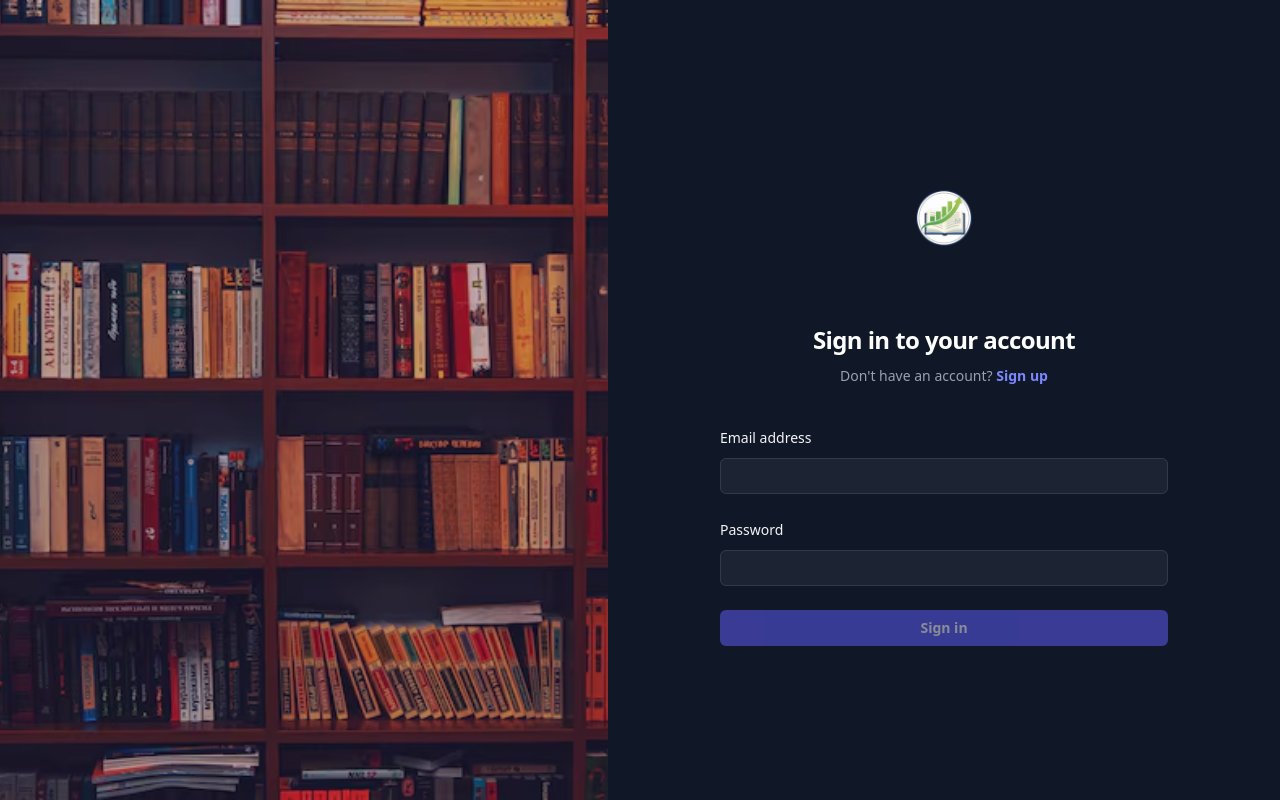
Test: SignIn › should successfully log in with valid credentials
The image size is (1280, 800).
Clear the field with test id "form-input-email": (944, 476) [720,458,1168,494]
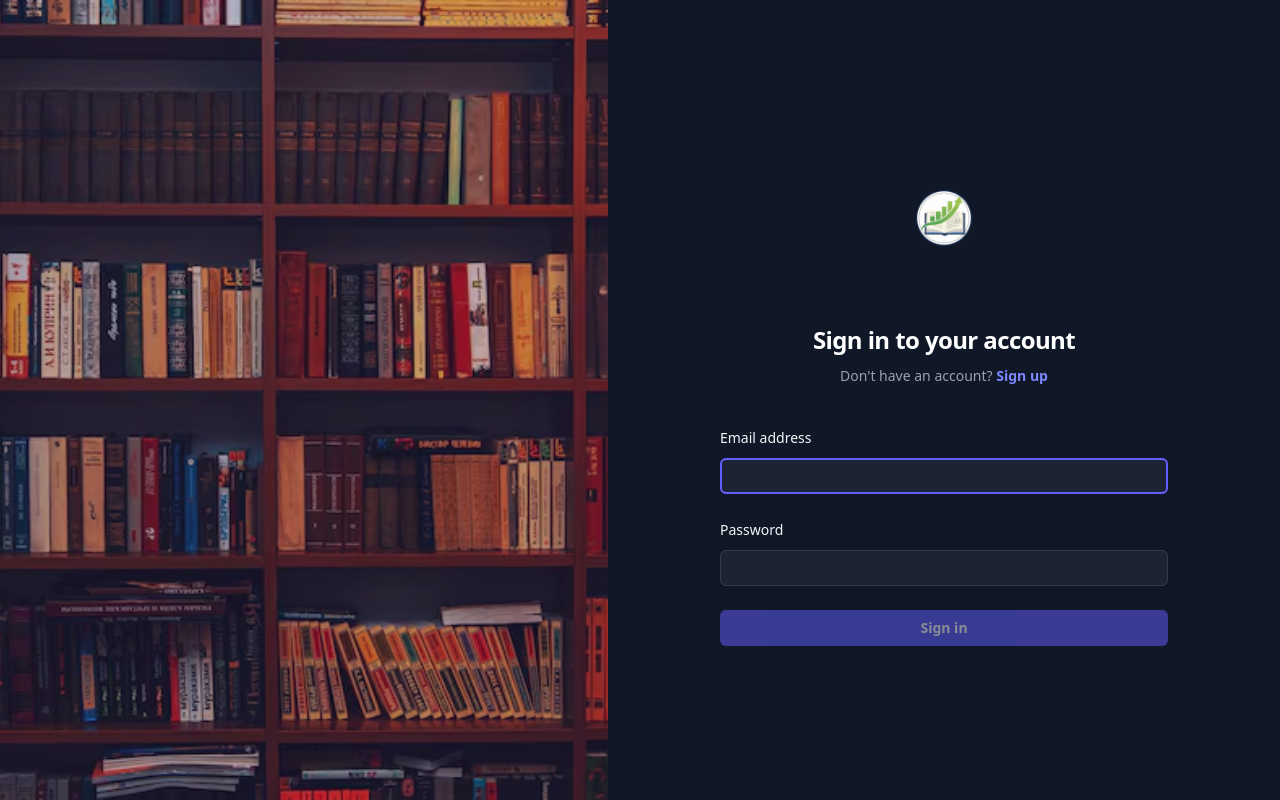
Clear the password field with test id "form-input-password": (944, 568) [720,550,1168,586]
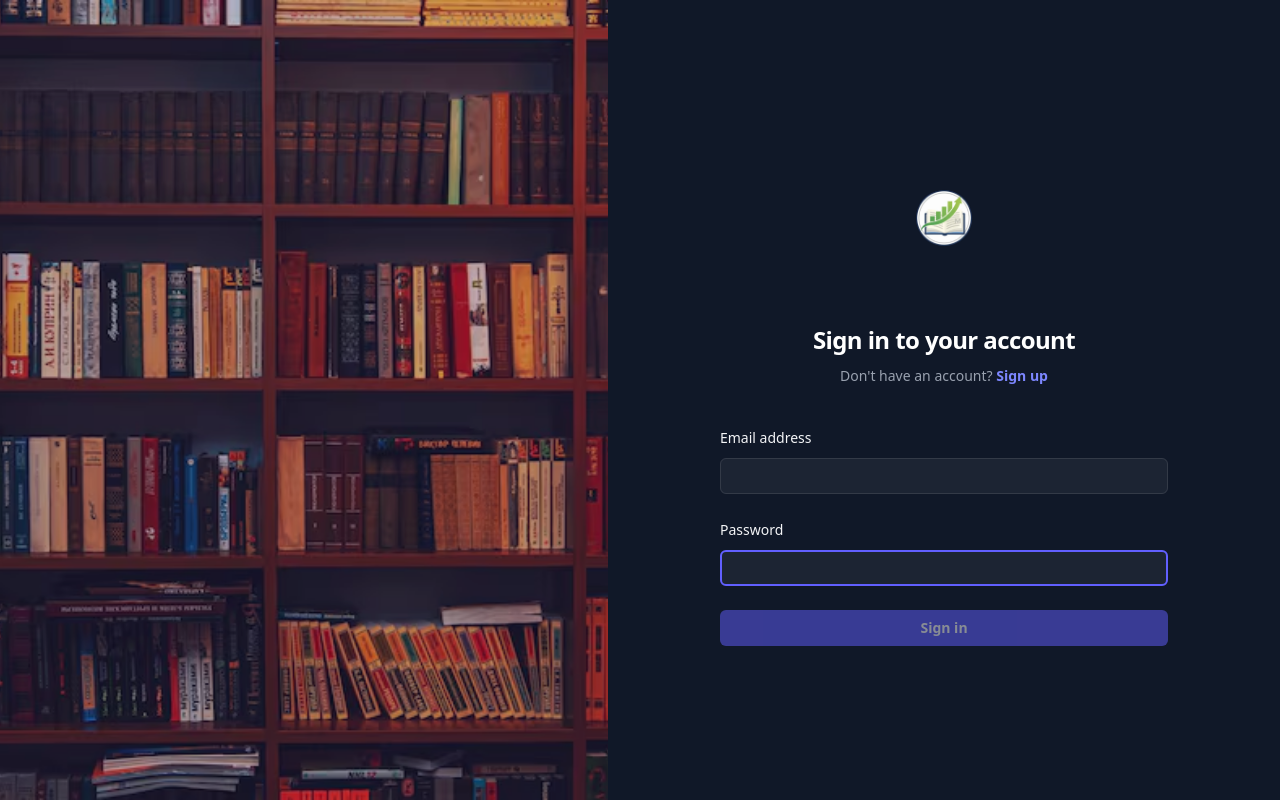
In the field with test id "form-input-email": (944, 476) [720,458,1168,494], type "admin@admin.com"
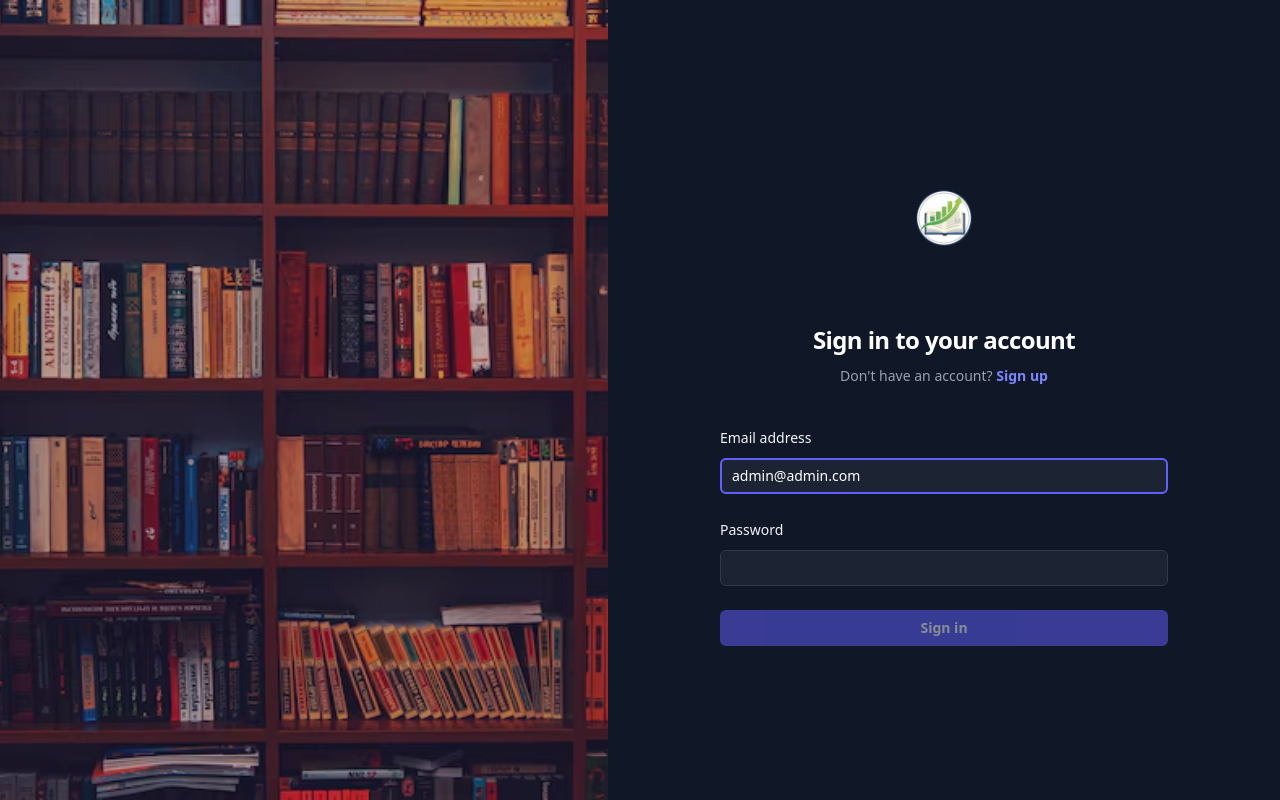
In the password field with test id "form-input-password": (944, 568) [720,550,1168,586], type "admin123!"
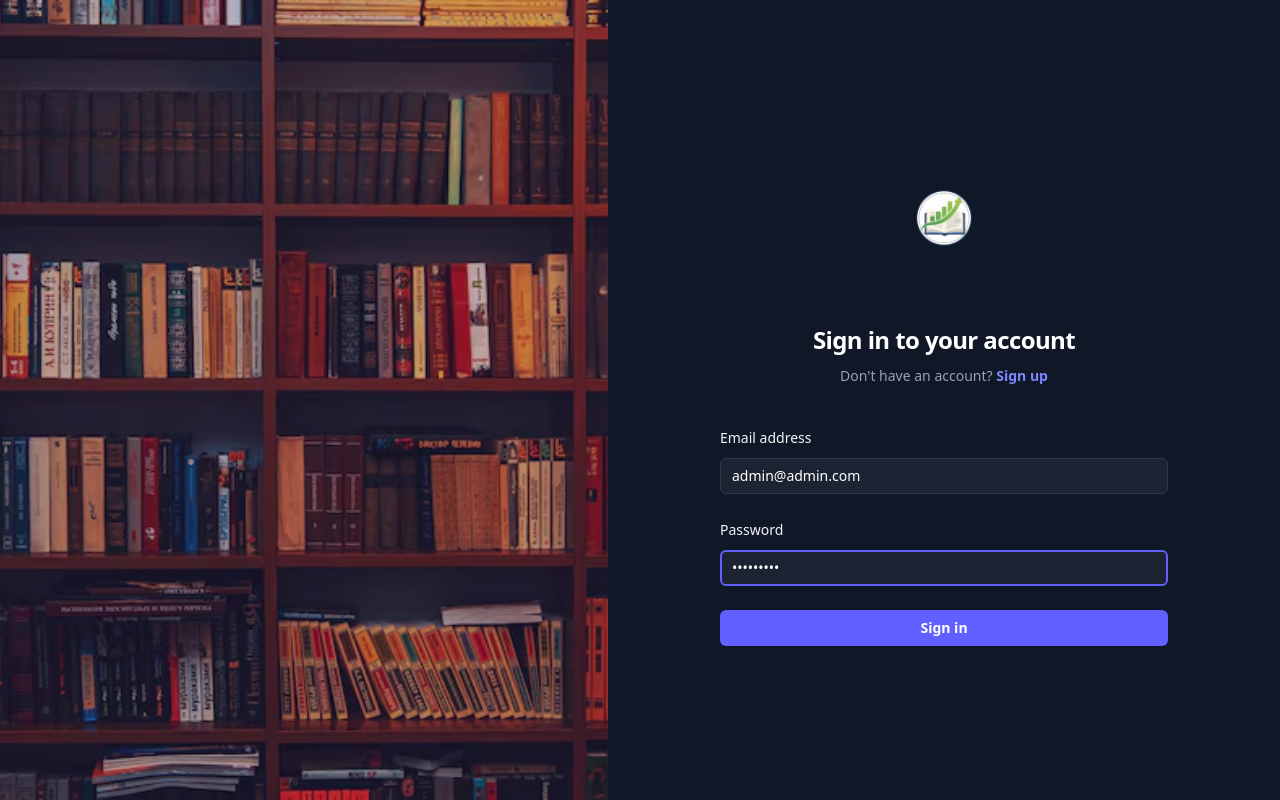
Click the button with test id "signin-submit-button": (944, 628) [720,610,1168,646]
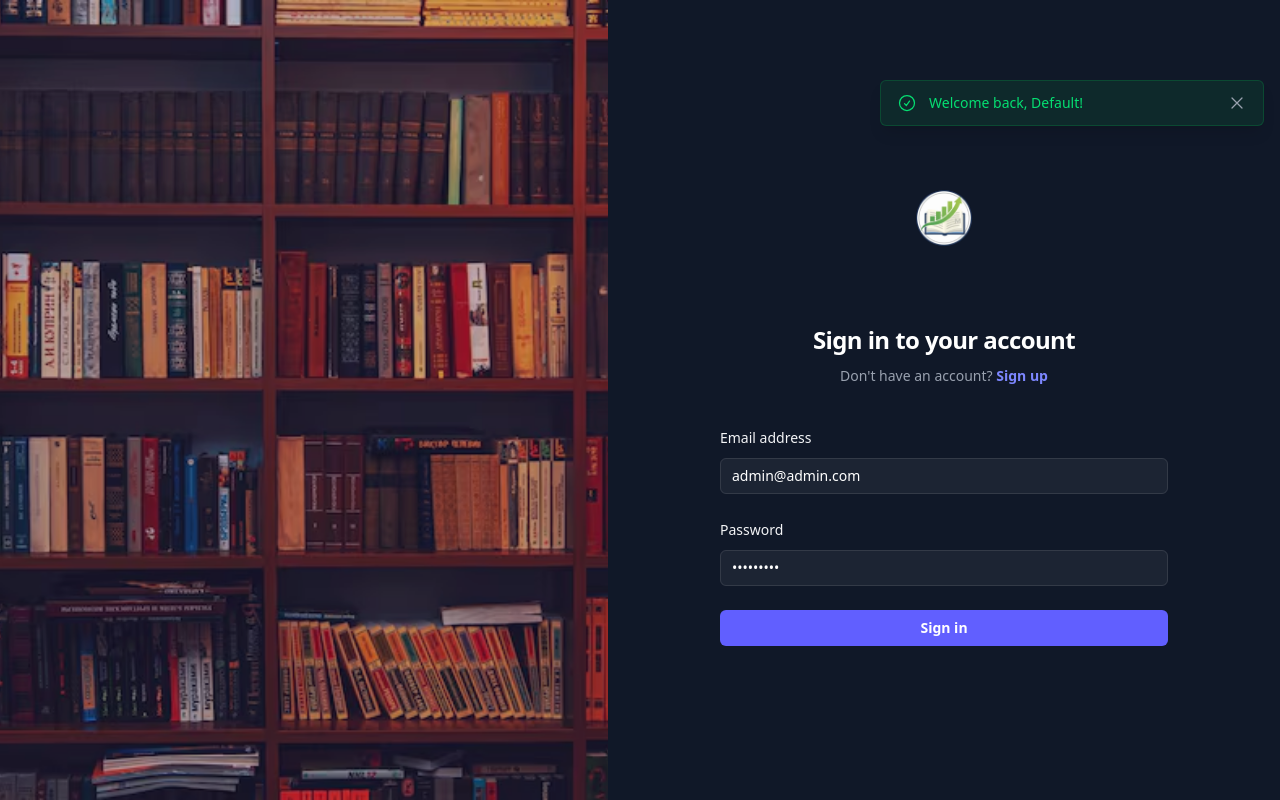
Result: the text "Welcome back, Default!" is shown at [929,93,1083,112]
